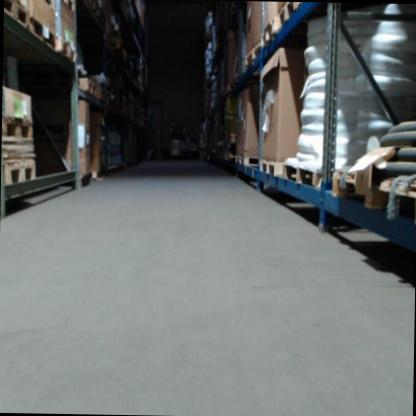pallet: (331, 169, 416, 225), (258, 161, 322, 187), (3, 158, 37, 187), (28, 17, 56, 51), (3, 0, 30, 29), (277, 1, 300, 30), (1, 118, 32, 139), (56, 36, 77, 63), (261, 16, 277, 50), (244, 38, 262, 67), (76, 75, 97, 97), (235, 155, 258, 167)
